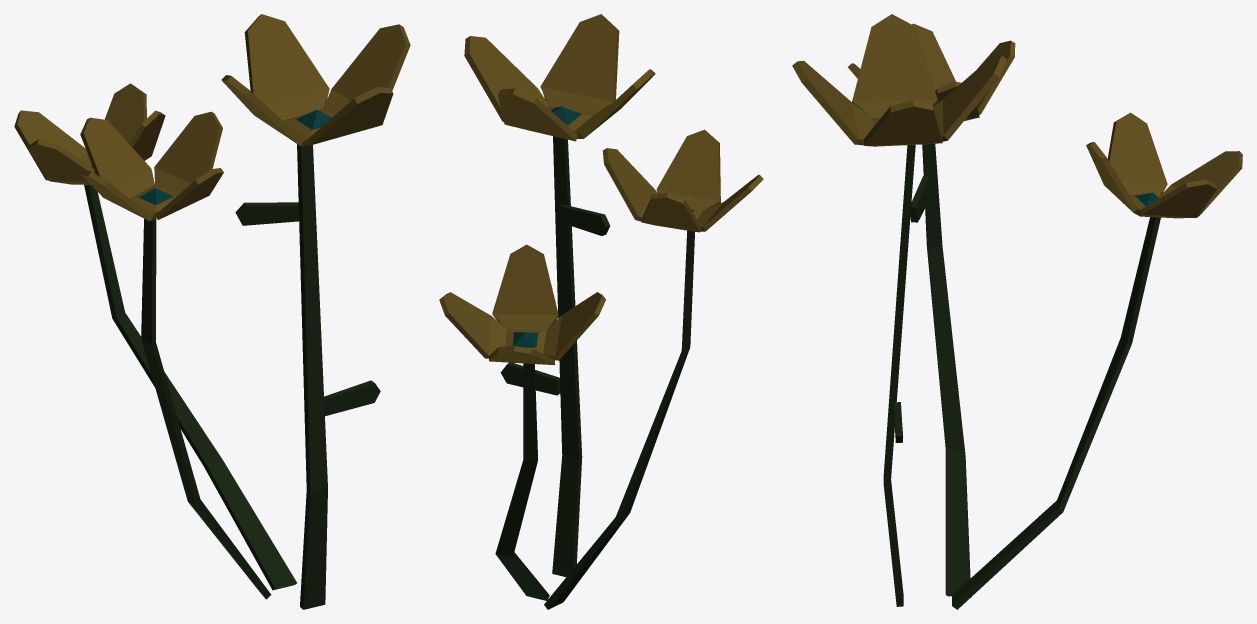
The model's file is Flowers.obj.
3 renders of one model, left to right at view 1: azimuth 30°, elevation 25°; view 2: azimuth 150°, elevation 25°; view 3: azimuth 270°, elevation 25°, orthographic. The views are drawn at different scales.
Visible parts, largest first — view 1: Flowers_Plane.029; view 2: Flowers_Plane.029; view 3: Flowers_Plane.029.
Part boxes in pixels (left/top/right/bottom): Flowers_Plane.029: left=14, top=14, right=410, bottom=609; Flowers_Plane.029: left=439, top=14, right=763, bottom=609; Flowers_Plane.029: left=792, top=14, right=1242, bottom=609.
Bounding box in the file's own units: 0.4895 × 0.8289 × 0.6137.
